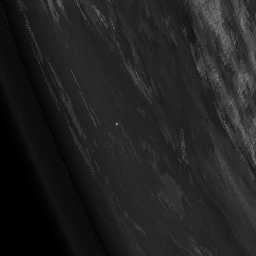Target: (113, 121, 120, 127)
